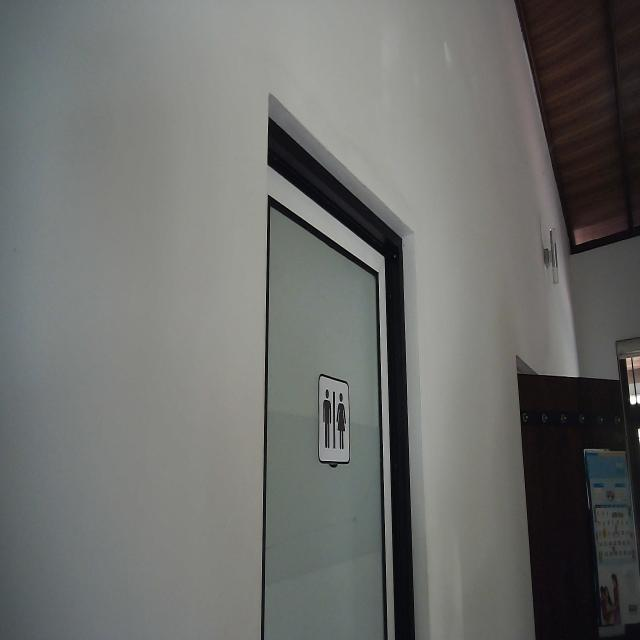restroom: (316, 370, 352, 468)
